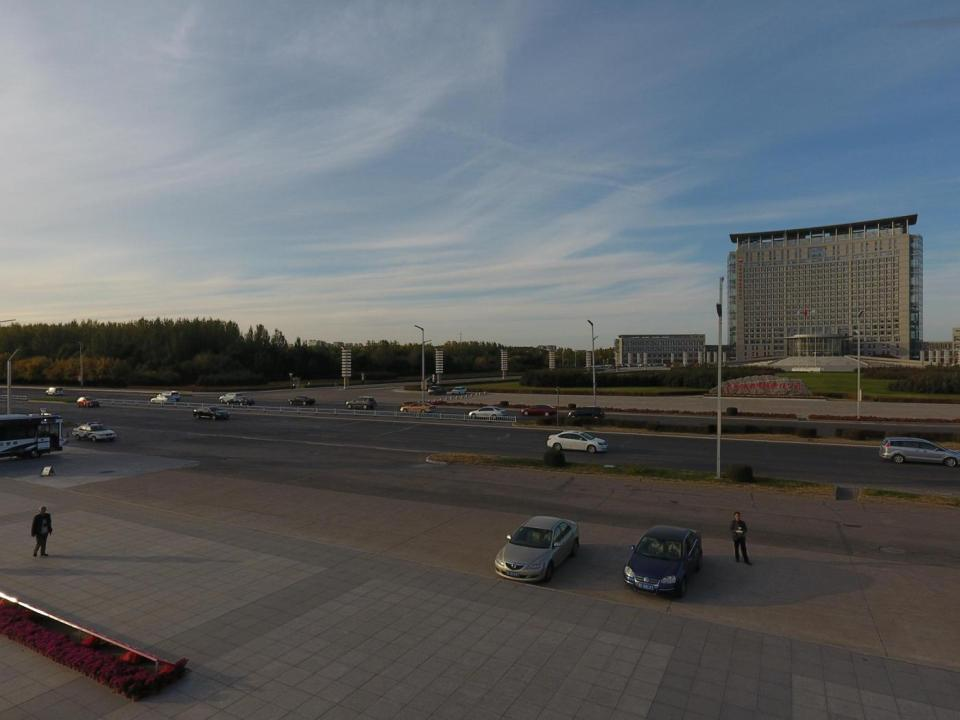bus: (0, 406, 64, 460)
car: (621, 523, 704, 598), (494, 515, 579, 581), (878, 436, 960, 467), (546, 430, 610, 453), (72, 421, 118, 442), (566, 405, 606, 422), (192, 405, 230, 421), (468, 406, 508, 420), (520, 404, 558, 416), (346, 395, 377, 409), (400, 402, 437, 413), (225, 396, 256, 409), (75, 395, 101, 408), (287, 395, 317, 406), (218, 391, 244, 403), (149, 394, 177, 405), (157, 390, 182, 401), (44, 385, 64, 397), (450, 386, 467, 396)
van: (427, 385, 448, 396)
